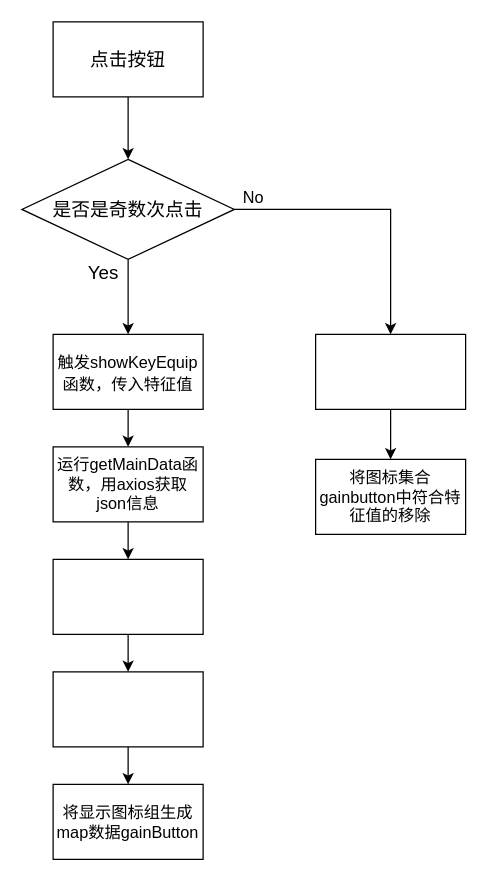
Image size: 488x881. Some labels were removed from this diagram. Each missing label, with the centre of its shape:
将获得信息中符合特征值的元素组成新数组getElement: (127,596)
根据gainElement生成图标: (127,709)
触发closeKeyEquip函数，传入特征值: (390,371)
